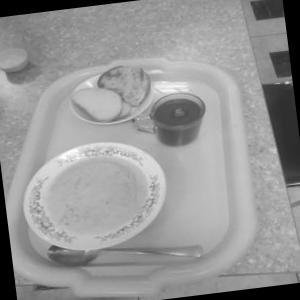bread: (64, 76, 126, 129)
cheese_sandwich: (92, 54, 158, 121)
coffee: (147, 84, 213, 154)
porridge: (26, 140, 182, 248)
